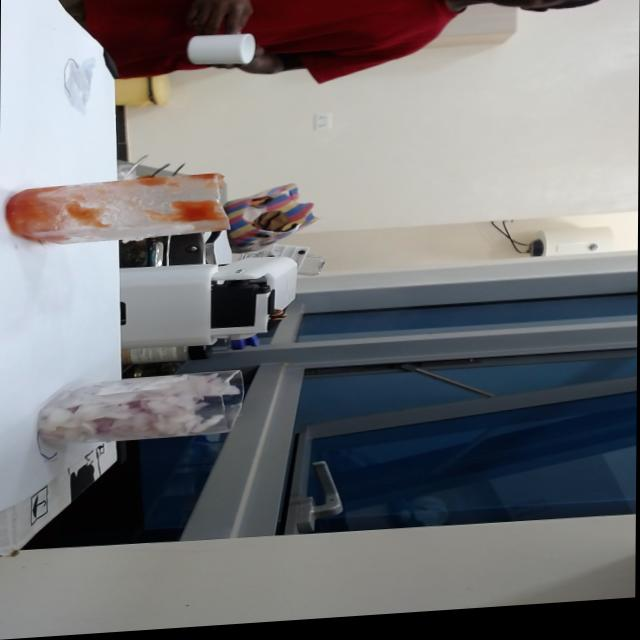blended_tomatoes_pepper: (10, 179, 146, 248)
sliced_onions: (39, 377, 239, 447)
